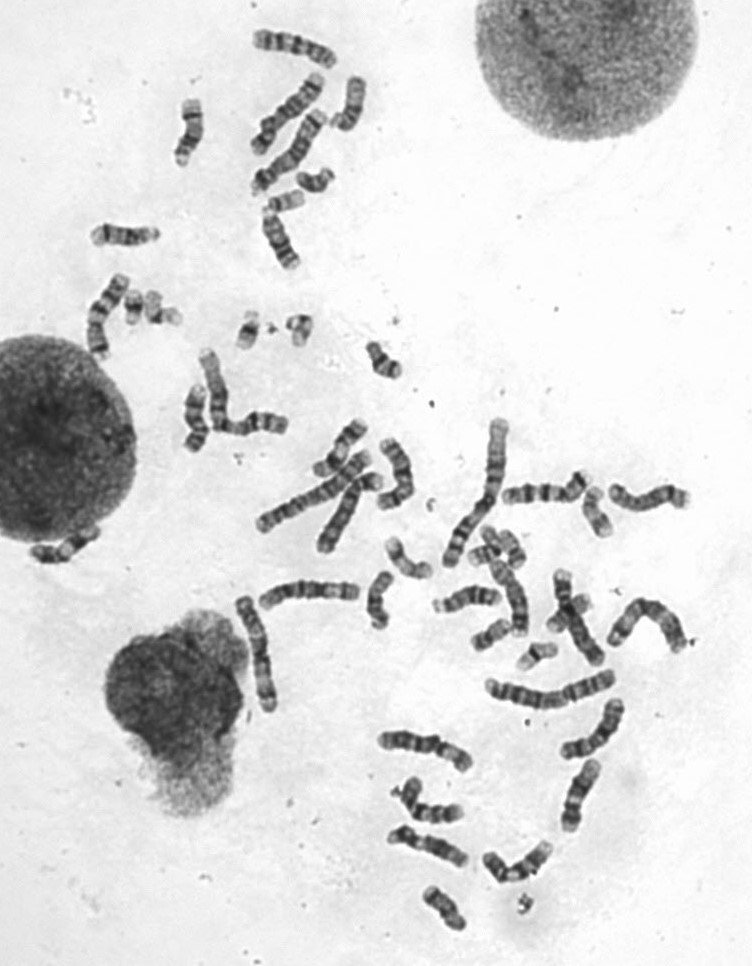chromosomes: (244, 449, 378, 546), (439, 413, 515, 575), (195, 345, 294, 437), (244, 104, 333, 195), (246, 71, 330, 161), (230, 589, 285, 717), (313, 471, 388, 562), (485, 666, 625, 710), (551, 566, 609, 672), (605, 594, 690, 660), (81, 270, 133, 367), (378, 823, 474, 874), (372, 728, 476, 774), (560, 697, 628, 765), (250, 23, 343, 72), (306, 415, 373, 482), (252, 579, 370, 617), (496, 466, 595, 510), (556, 753, 605, 839), (398, 773, 472, 828), (486, 559, 536, 640), (26, 525, 110, 572), (607, 476, 694, 519), (482, 839, 557, 887), (373, 434, 418, 514), (256, 210, 305, 277), (169, 95, 206, 178), (420, 883, 473, 936), (85, 218, 165, 253), (433, 585, 508, 622), (383, 533, 435, 583), (541, 591, 596, 636), (179, 383, 212, 458), (579, 482, 621, 539), (336, 76, 375, 137), (366, 337, 409, 387), (141, 288, 187, 334), (464, 523, 504, 574), (464, 615, 516, 654), (367, 563, 395, 635), (514, 640, 564, 674), (497, 528, 529, 572), (291, 166, 338, 195), (235, 306, 263, 353), (119, 286, 145, 336), (285, 310, 315, 353), (263, 189, 309, 215)
